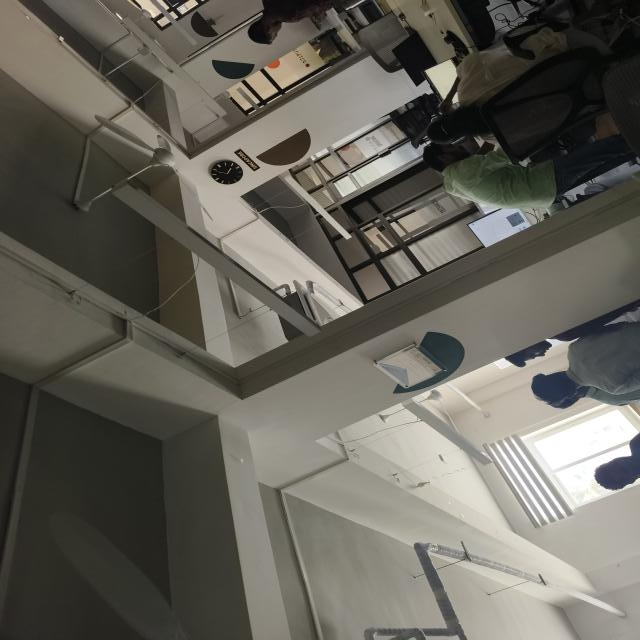fluorescent tube: (101, 164, 327, 350), (110, 8, 230, 123), (398, 368, 496, 481), (278, 170, 357, 256)
